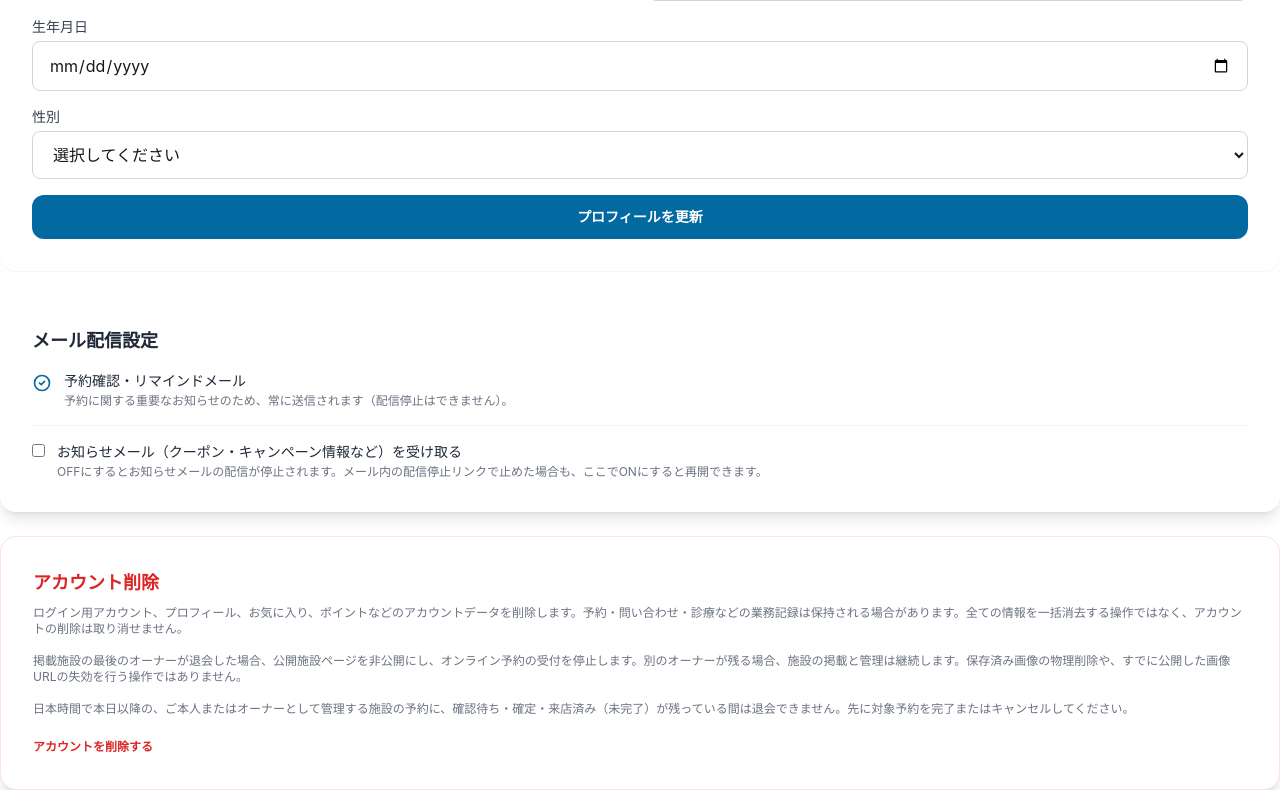
Test: 配信停止中に ON にすると、API へ receive=true を送り「再開しました」を出す
(page scrolled)
Click the checkbox labelled "お知らせメール（クーポン・キャンペーン情報など）を受け取る" at (38, 450), box x1=32 y1=444 x2=45 y2=457
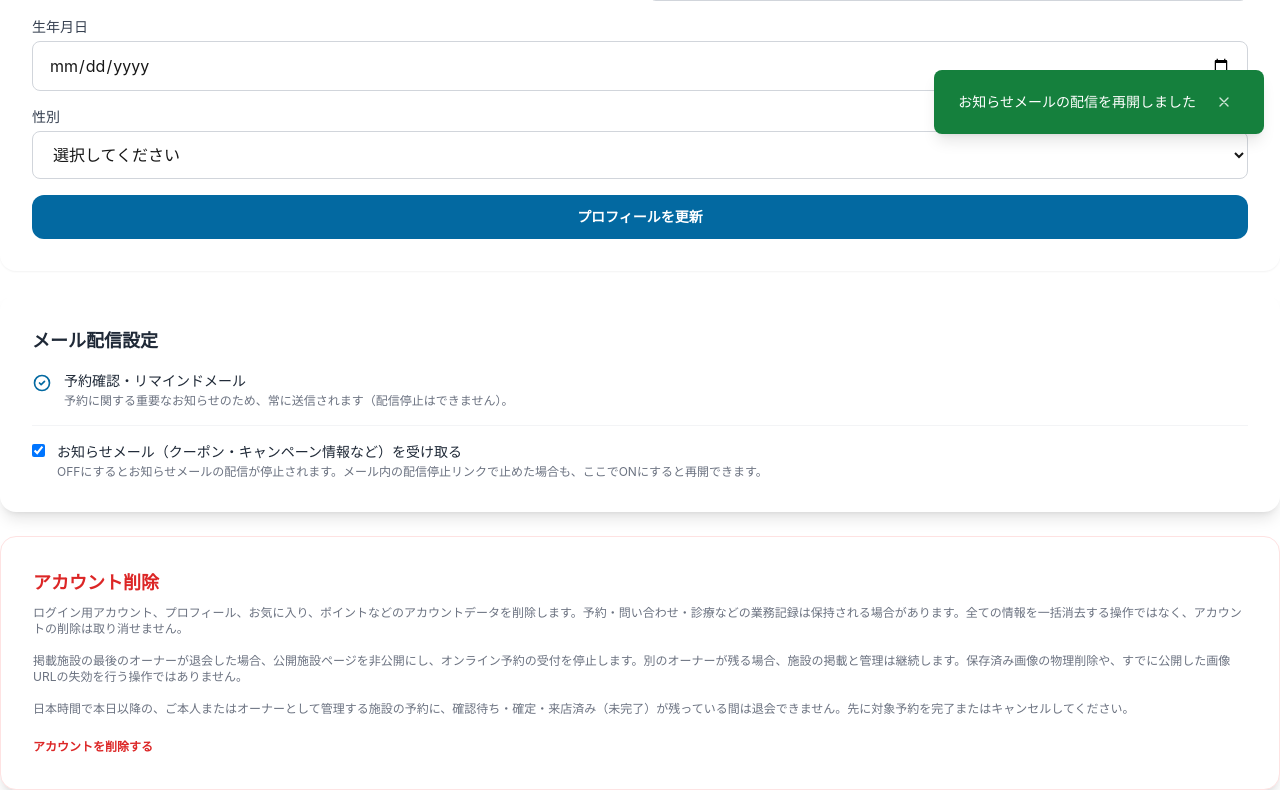
Expected: the checkbox labelled "お知らせメール（クーポン・キャンペーン情報など）を受け取る" is checked, x1=32 y1=444 x2=45 y2=457
Expected: the text "お知らせメールの配信を再開しました" is shown, x1=958 y1=92 x2=1196 y2=112
